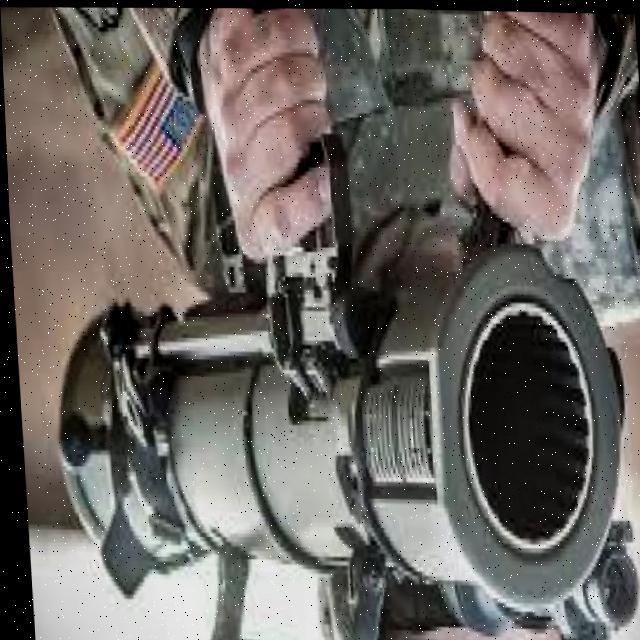rocket: (31, 208, 640, 640)
